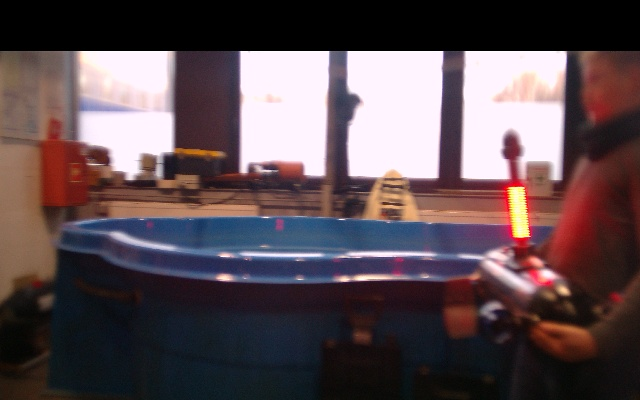red: (506, 184, 532, 242)
